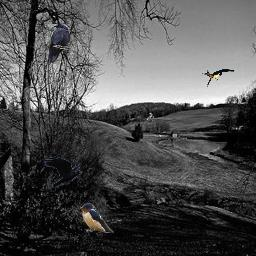Crow: (43, 156, 83, 187), (47, 24, 70, 64)
Swallow: (80, 203, 114, 233), (196, 67, 236, 87)
